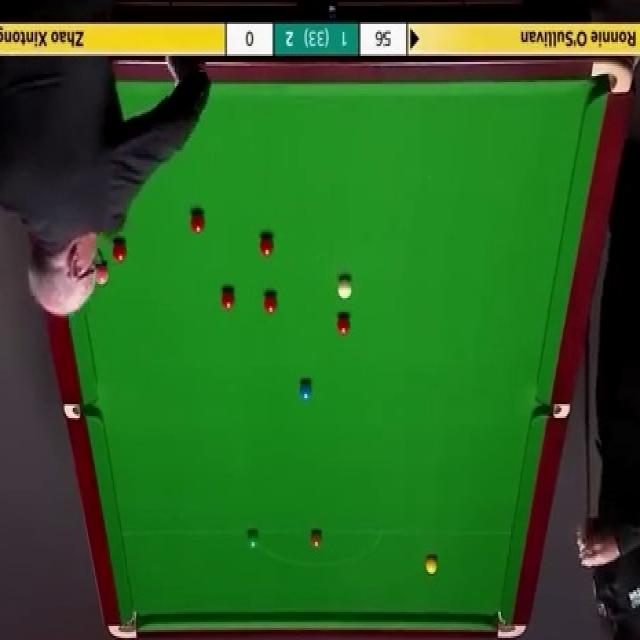blue-ball: (299, 379, 312, 401)
brown-ball: (310, 530, 322, 547)
green-ball: (247, 530, 258, 550)
pink-ball: (92, 262, 109, 287)
red-ball: (189, 210, 207, 235), (220, 288, 235, 313), (259, 233, 273, 258), (264, 291, 278, 315), (112, 241, 127, 262), (336, 316, 350, 338)
white-ball: (337, 272, 355, 300)
yellow-ball: (424, 554, 438, 574)
